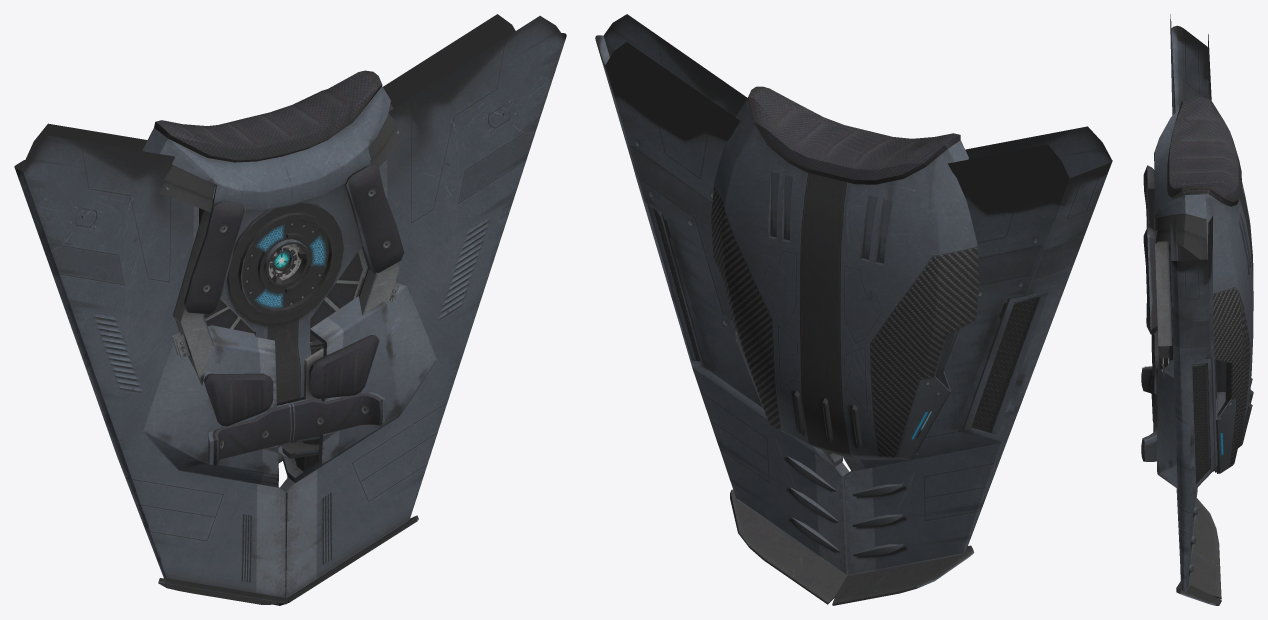
The model's file is jet.fbx.
The picture shows the model from 3 angles, left to right: view 1: azimuth 30°, elevation 25°; view 2: azimuth 150°, elevation 25°; view 3: azimuth 270°, elevation 25°; orthographic projection. The views are drawn at different scales.
Visible parts, largest first — view 1: Object_108.002, Object_108, Object_108.001; view 2: Object_108.001, Object_108, Object_108.002; view 3: Object_108.001, Object_108.002, Object_108.
Part boxes in pixels (left/top/right/bottom): Object_108.002: left=274, top=14, right=566, bottom=605; Object_108: left=14, top=123, right=288, bottom=604; Object_108.001: left=142, top=70, right=404, bottom=465; Object_108.001: left=711, top=86, right=979, bottom=459; Object_108: left=832, top=126, right=1112, bottom=605; Object_108.002: left=595, top=14, right=849, bottom=604; Object_108.001: left=1141, top=96, right=1253, bottom=473; Object_108.002: left=1156, top=216, right=1221, bottom=605; Object_108: left=1157, top=14, right=1221, bottom=599.
Bounding box in the file's own units: 106 × 101 × 21.43.
Materials: 1 (1 with a texture image).
